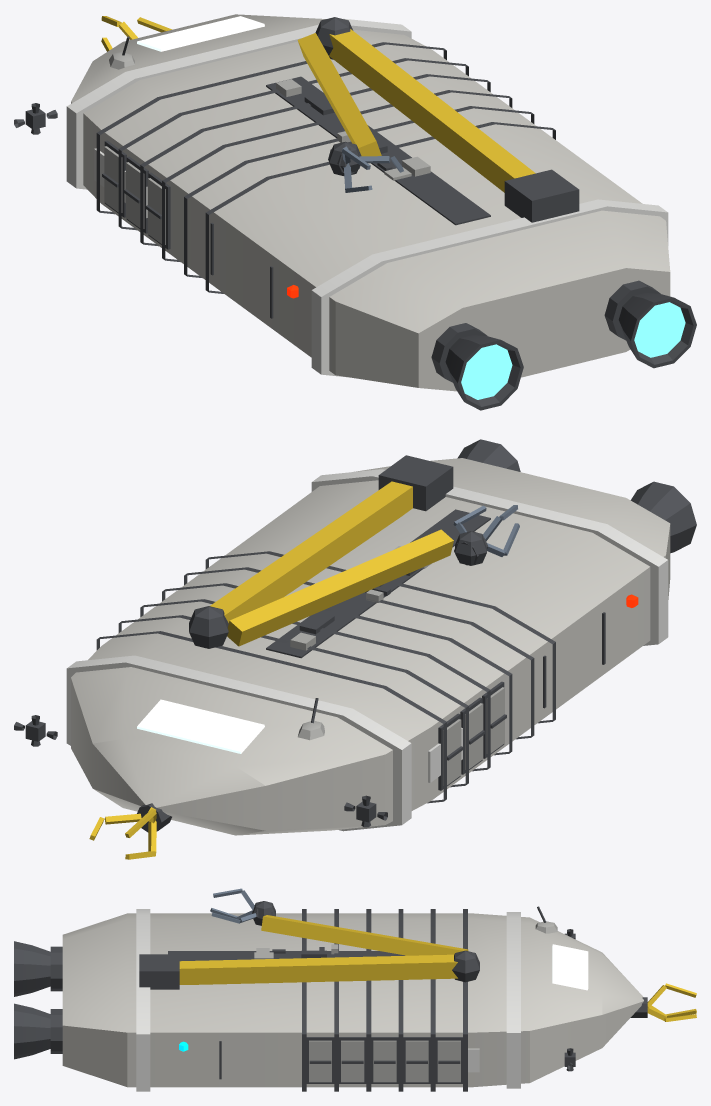
The model's file is foreman.glb.
The picture shows the model from 3 angles, top to bottom: view 1: azimuth 30°, elevation 25°; view 2: azimuth 150°, elevation 25°; view 3: azimuth 270°, elevation 25°; orthographic projection. The views are drawn at different scales.
Visible parts, largest first — view 1: Hull; view 2: Hull; view 3: Hull.
Part boxes in pixels (x1,y1,x2,y2): Hull: (14, 14, 696, 410); Hull: (14, 439, 696, 859); Hull: (14, 888, 696, 1091).
Size of the model in its own units: 0.9239 by 0.4271 by 2.
